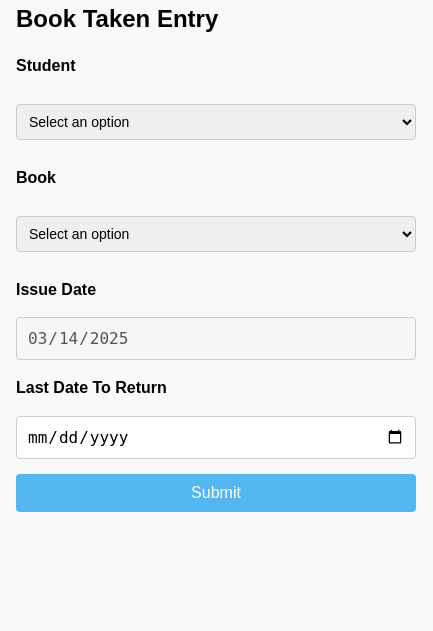
Test case: Book Taken Entry › submit form without correct data
Click the button: click(216, 493) [16,474,416,512]
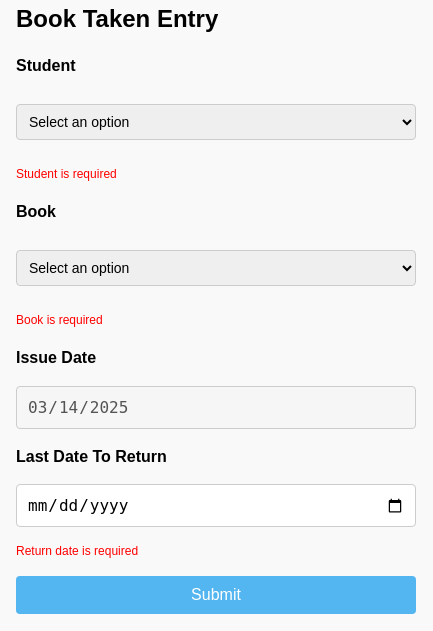
Expected: the text "Student is required" is shown, [16,167,117,181]
Expected: the text "Book is required" is shown, [16,313,103,327]
Expected: the text "Return date is required" is shown, [16,544,138,558]
